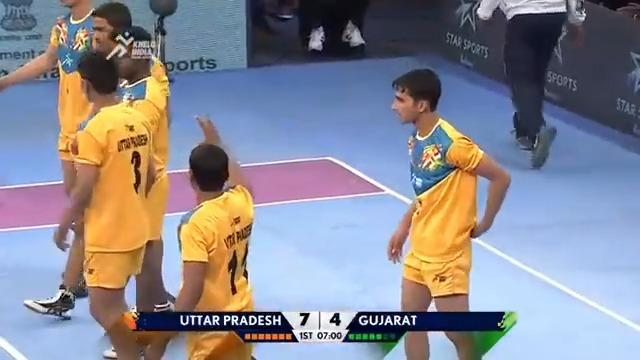Player: (386, 67, 511, 358), (0, 0, 109, 316), (54, 49, 160, 358), (97, 25, 176, 357), (173, 113, 257, 358)
referee: (475, 0, 586, 169)
